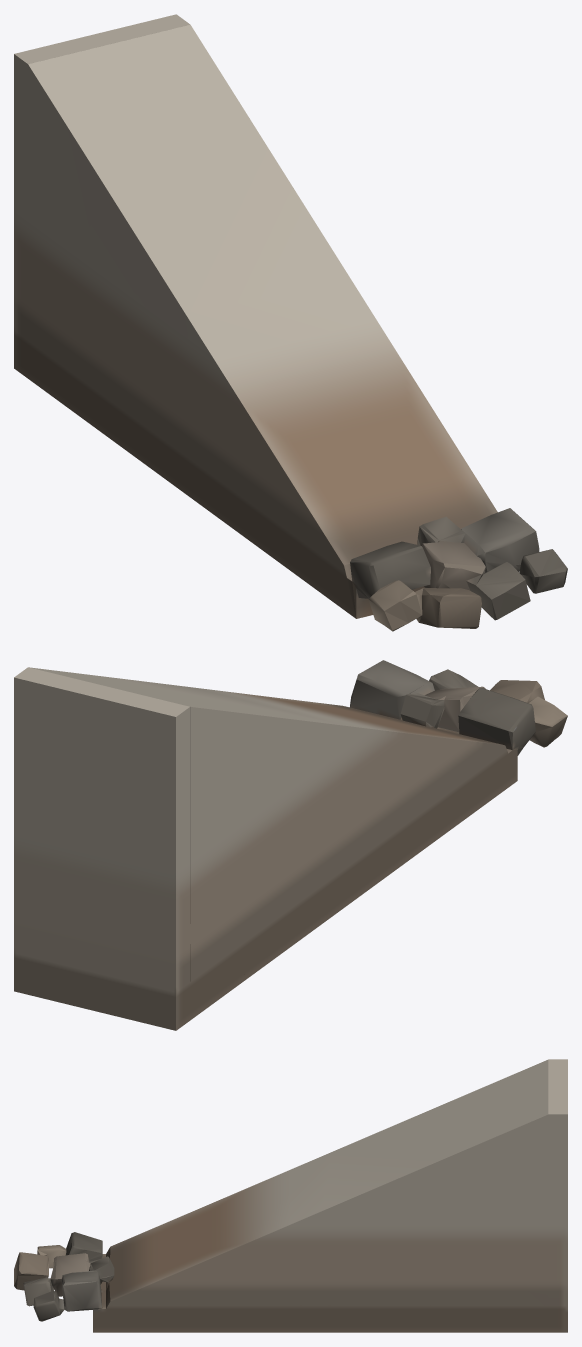
File: ke_ha_long.mid.glb
3 views of the same model, one above another, from view 1: azimuth 30°, elevation 25°; view 2: azimuth 150°, elevation 25°; view 3: azimuth 270°, elevation 25° (orthographic). The views are drawn at different scales.
Visible parts, largest first — view 1: drawing; view 2: drawing; view 3: drawing.
Boxes of the visible parts, box(x1,y1,x2,y2) form: drawing: box(14, 14, 567, 631); drawing: box(14, 660, 567, 1030); drawing: box(14, 1059, 567, 1332).
Bounding box in the file's own units: 2.24 × 3.7 × 8.52.
Materials: 2 (2 with a texture image).
